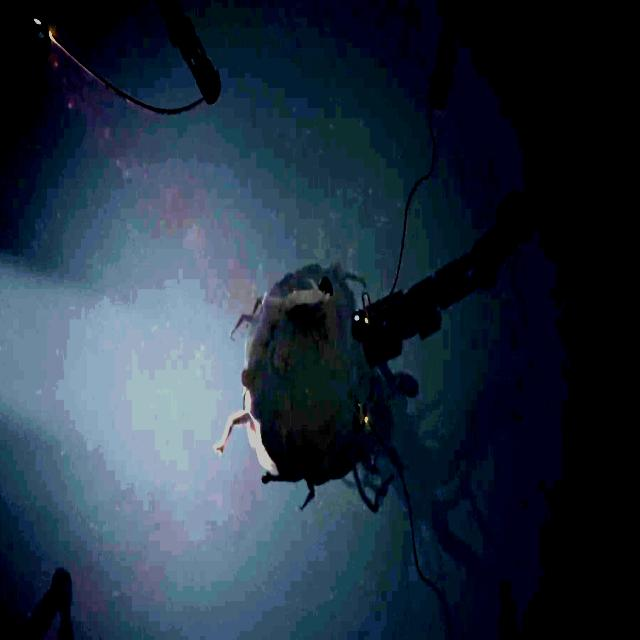blob: (215, 268, 376, 514)
boy: (263, 276, 331, 306)
interactible: (27, 15, 53, 63), (352, 306, 372, 347), (352, 395, 369, 436)
mechanism: (361, 72, 640, 363), (153, 0, 218, 104), (0, 564, 69, 640), (428, 0, 473, 111)
